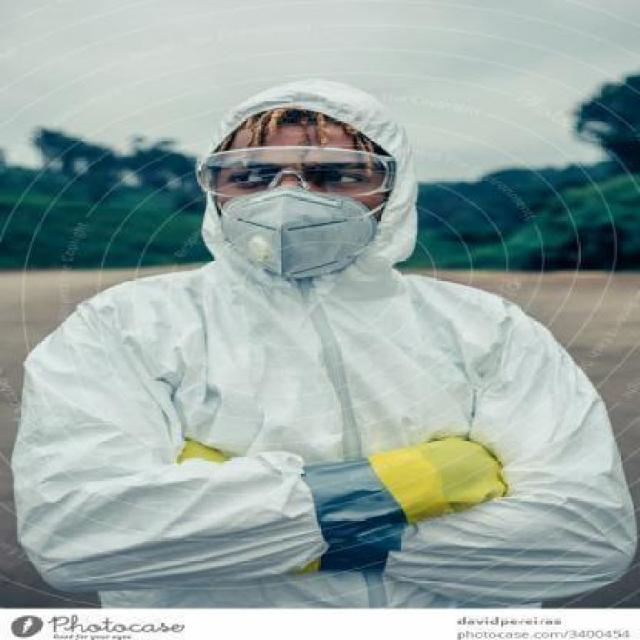face_mask: (220, 156, 374, 276)
glasses: (193, 142, 398, 202)
person: (0, 70, 640, 612)
